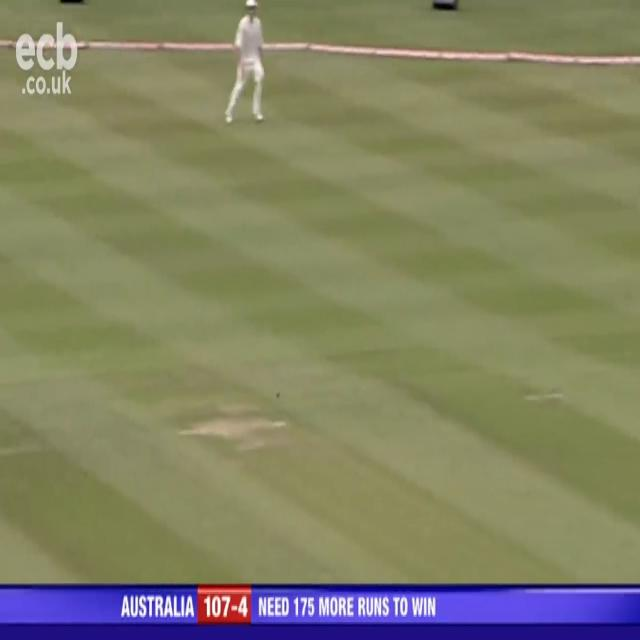ball: (274, 387, 283, 402)
